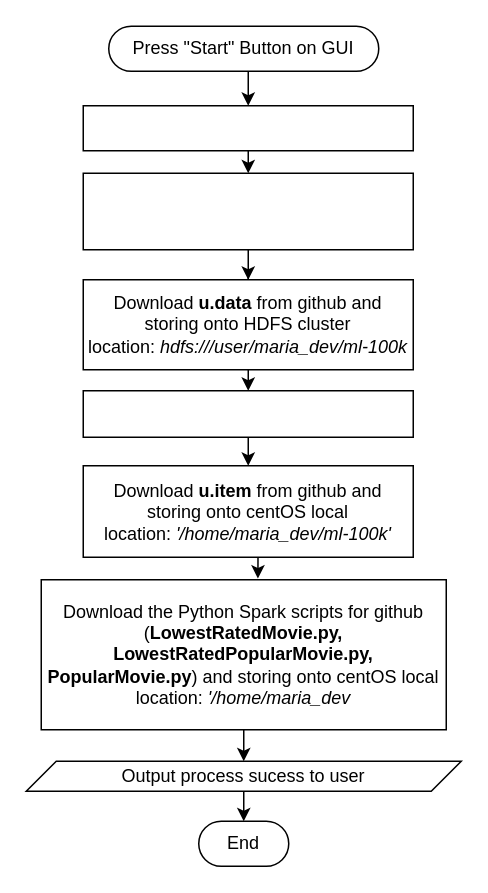
Some shapes in this 488 by 893 pixel diagram are drawn without their labels. Each missing label, with the centre of its shape:
"Create directory 'ml-100k' in centOS local location: ' /home/maria_dev'" goes at point 247,413.
"Create directory 'ml-100k' in HDFS cluster location: hdfs:///user/maria_dev" goes at point 247,211.
"SSH into HortonWorks sandbox @maria_dev" goes at point 247,127.
